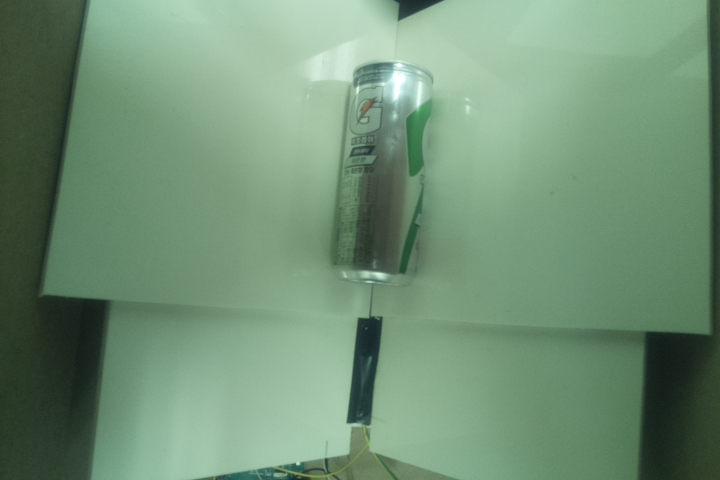can: (333, 58, 434, 288)
